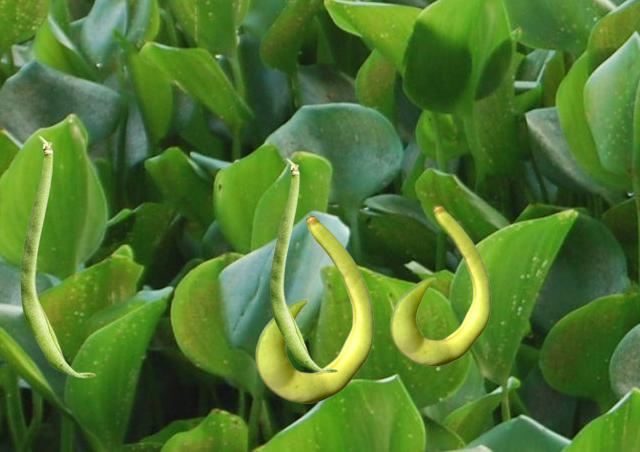french_bean: (255, 215, 373, 402), (20, 135, 95, 377), (390, 205, 490, 365), (270, 158, 337, 372)
